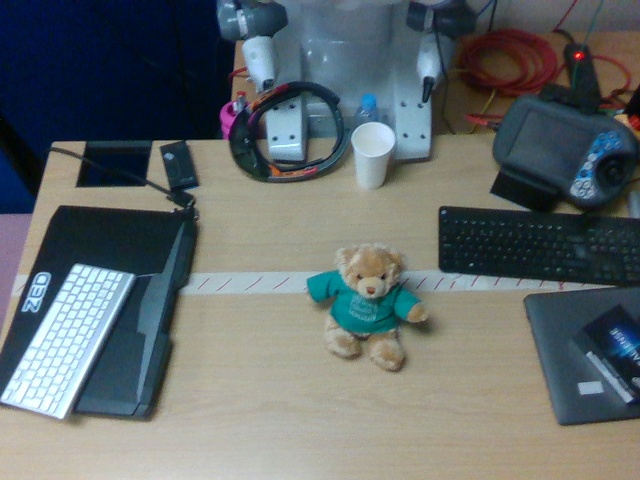teddy: (308, 245, 430, 370)
